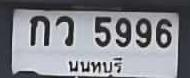5: (94, 15, 110, 46)
6: (155, 18, 171, 46)
9: (135, 16, 150, 46), (115, 16, 130, 45)
A01: (29, 14, 49, 44)
A37: (55, 14, 73, 44)
NBI: (65, 55, 125, 78)
